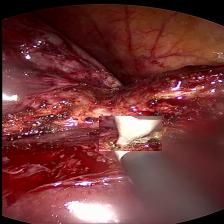Hook: (98, 116, 161, 151)
